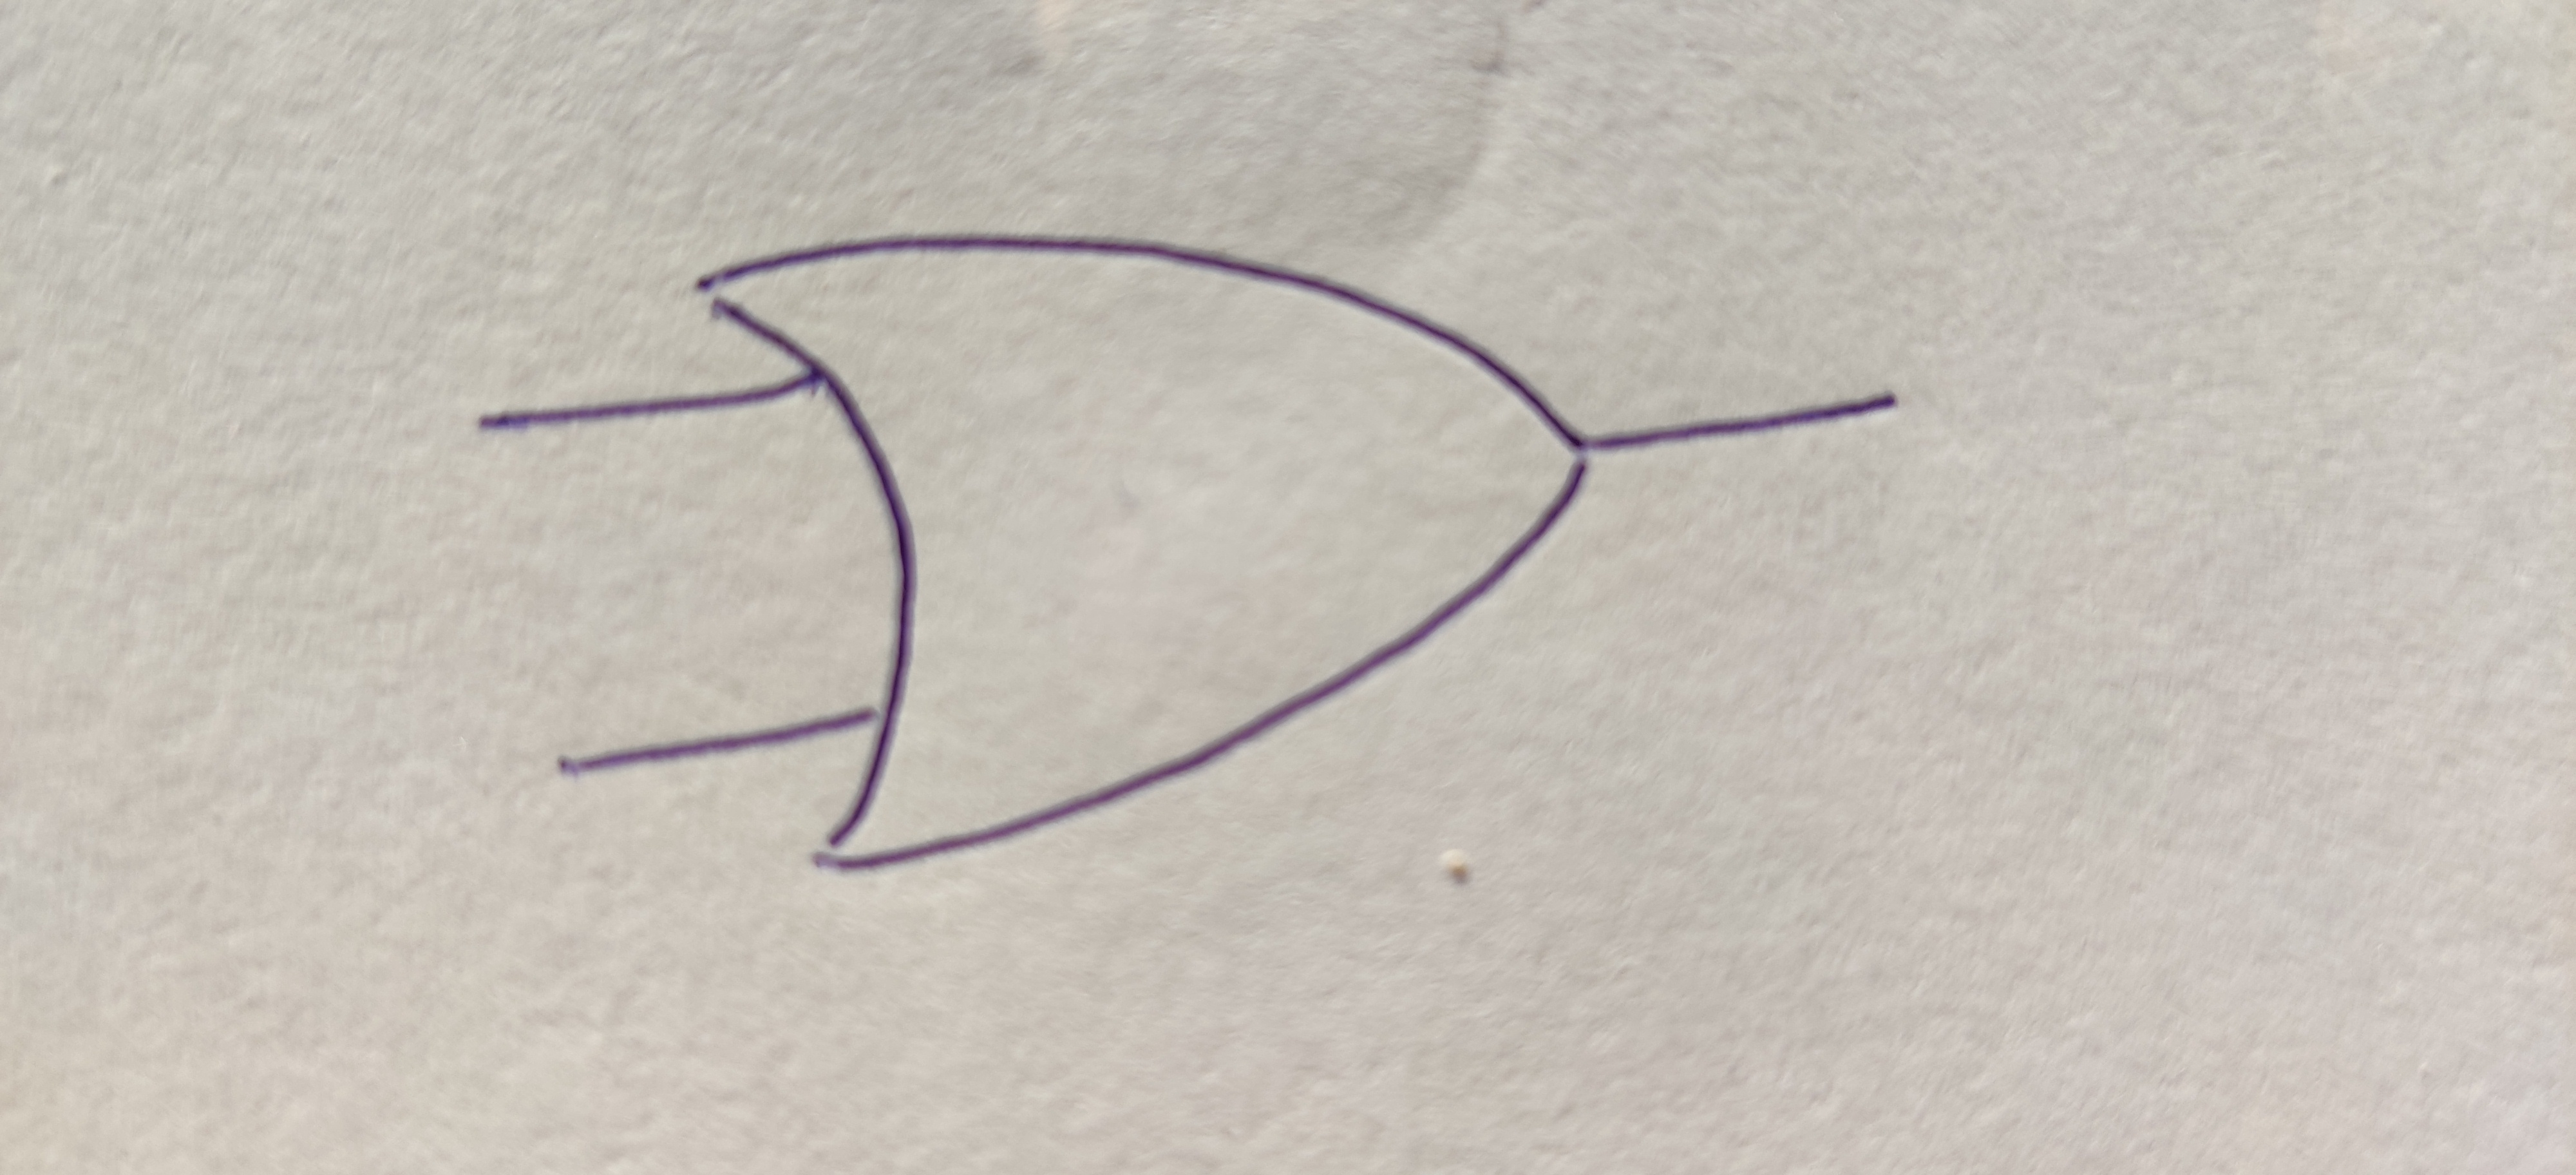or: (703, 235, 1589, 866)
